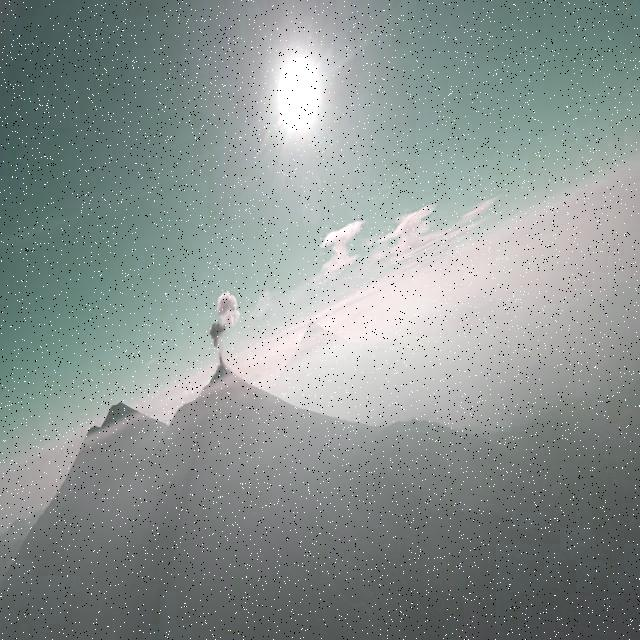Plume: (214, 284, 242, 329), (206, 319, 228, 350)
Summit: (194, 364, 260, 402)
